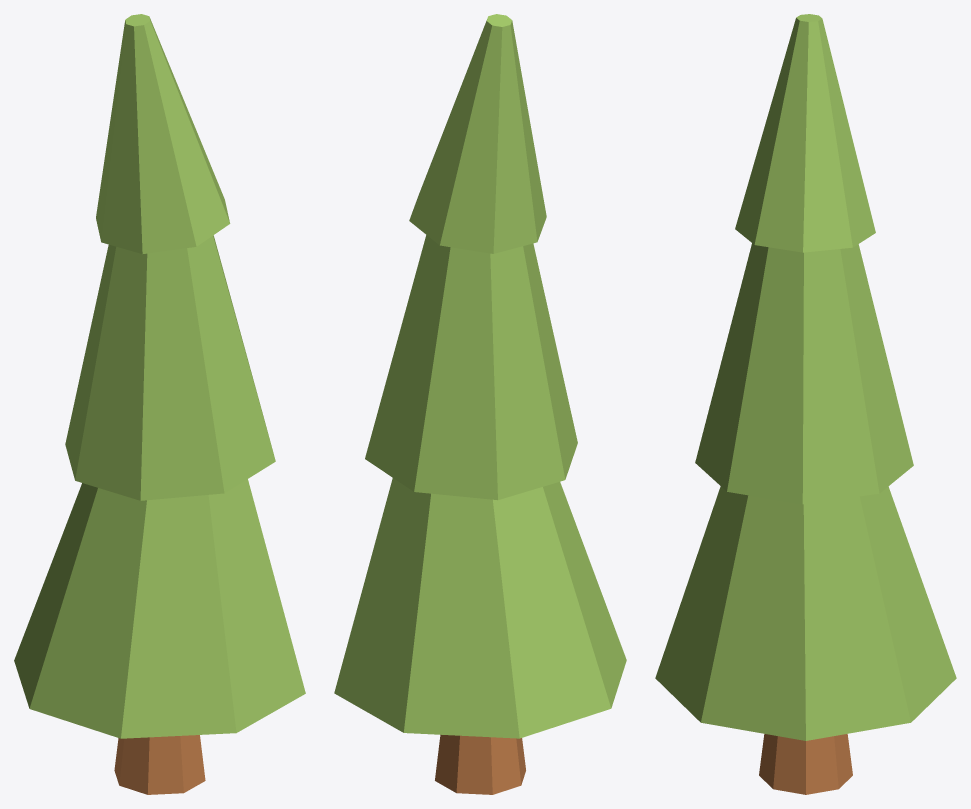
Rendered from tree02.fbx.
3 renders of one model, left to right at view 1: azimuth 30°, elevation 25°; view 2: azimuth 150°, elevation 25°; view 3: azimuth 270°, elevation 25°, orthographic.
Visible parts, largest first — view 1: Plane; view 2: Plane; view 3: Plane.
Part boxes in pixels (x1=…): Plane: x1=14, y1=14, x2=305, y2=794; Plane: x1=334, y1=14, x2=626, y2=794; Plane: x1=655, y1=14, x2=956, y2=794.
Bounding box in the file's own units: 164 × 456 × 166.
